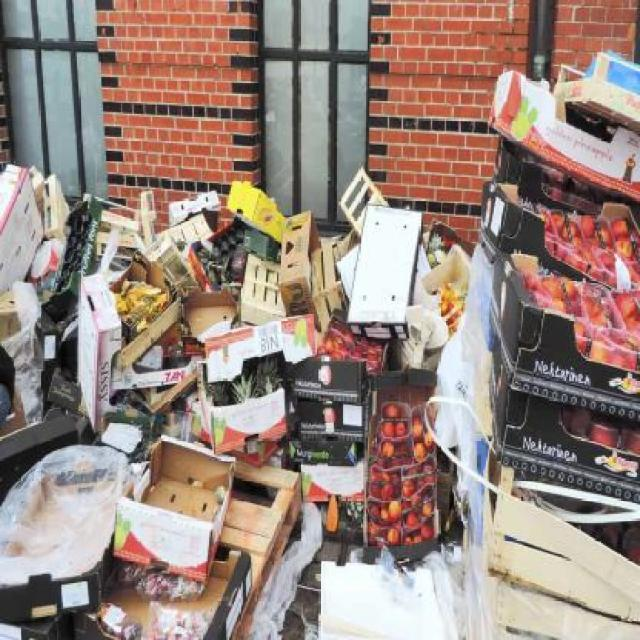garbage: (2, 169, 640, 640), (486, 36, 639, 182)
